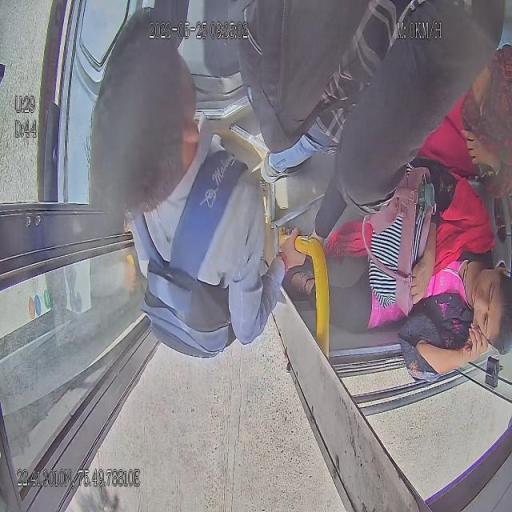persona: (87, 8, 309, 360), (281, 162, 512, 383), (235, 0, 398, 184)
